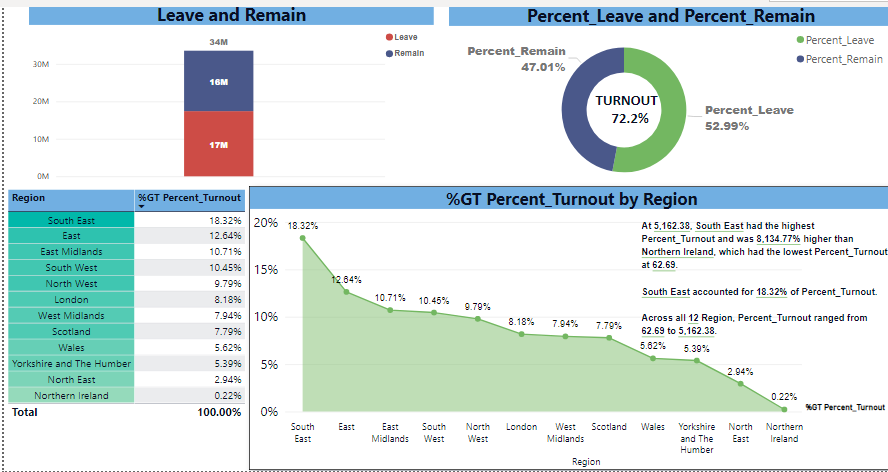

This screenshot's page, from the dashboard's own definition file:
{"tool":"powerbi","page":{"name":"Page 1","canvas":[1280,720],"ordinal":0},"visuals":[{"type":"columnChart","fields":{"Y":["Sum(referendum.Leave)","Sum(referendum.Remain)"]},"box":[36,44.6,583.2,265],"z":0},{"type":"donutChart","fields":{"Y":["Sum(referendum.Percent_Leave)","Sum(referendum.Percent_Remain)"]},"box":[640.8,46.1,639.4,275],"z":1000},{"type":"textbox","box":[172.8,360,243.4,358.6],"z":2000},{"type":"textbox","box":[416,379,224,340],"z":3000},{"type":"tableEx","fields":{"Values":["referendum.Region","Sum(referendum.Percent_Turnout)"]},"box":[0,309.6,352.8,409],"z":4000},{"type":"areaChart","fields":{"Category":["referendum.Region"],"Y":["Sum(referendum.Percent_Turnout)"]},"box":[352.8,309.6,927.4,409],"z":5000},{"type":"textbox","box":[912.5,351,367.5,232.6],"z":6000},{"type":"textbox","box":[761.8,118.1,220.3,121],"z":7000},{"type":"textbox","box":[816.5,148.3,154.1,128.2],"z":8000}]}

Visuals, with their boxes on the page's 1280x720 design canvas (x1, y1, x2, y2). These are canvas units, not pixel positions in the 888x472 screenshot, which may show the page scaled, cropped or inside an application window:
columnChart - Sum(referendum.Leave) x Sum(referendum.Remain): region(36, 45, 619, 310)
donutChart - Sum(referendum.Percent_Leave) x Sum(referendum.Percent_Remain): region(641, 46, 1280, 321)
textbox: region(173, 360, 416, 719)
textbox: region(416, 379, 640, 719)
tableEx - referendum.Region x Sum(referendum.Percent_Turnout): region(0, 310, 353, 719)
areaChart - referendum.Region x Sum(referendum.Percent_Turnout): region(353, 310, 1280, 719)
textbox: region(912, 351, 1280, 584)
textbox: region(762, 118, 982, 239)
textbox: region(816, 148, 971, 276)
